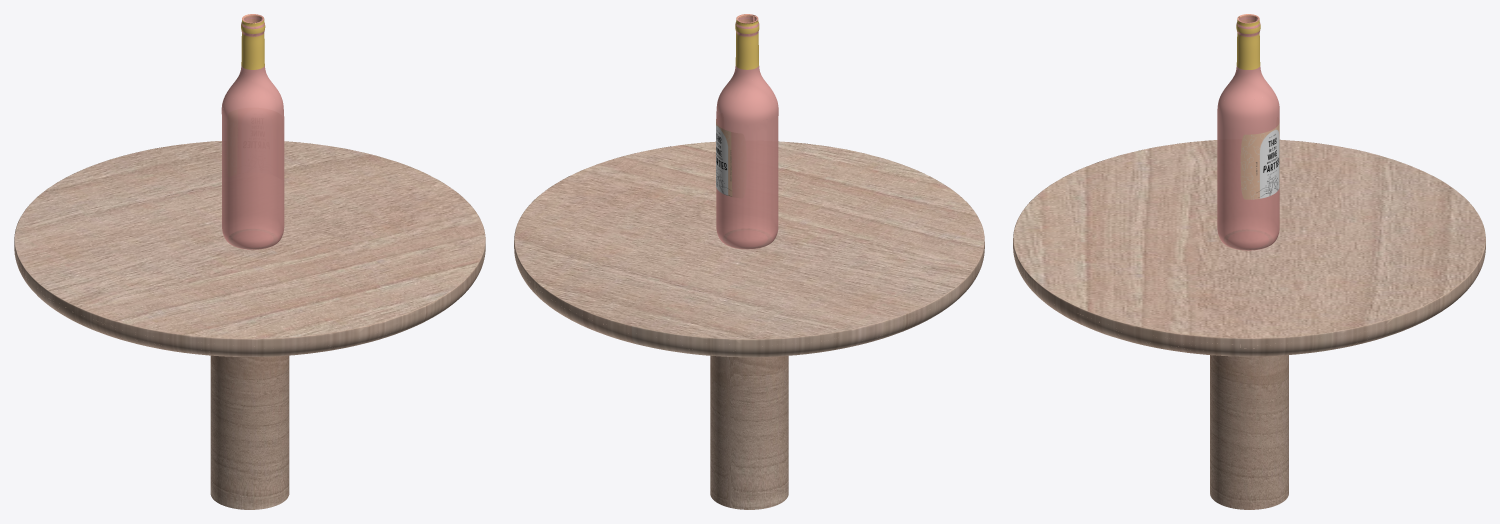
File: rose-table.glb
3 views of the same model, side by side, from view 1: azimuth 30°, elevation 25°; view 2: azimuth 150°, elevation 25°; view 3: azimuth 270°, elevation 25° (orthographic).
Parts seen in each view (by area): view 1: Cylinder.001_3, Cylinder_2, Cylinder.002_5; view 2: Cylinder.001_3, Cylinder_2, Cylinder.002_5; view 3: Cylinder.001_3, Cylinder_2, Cylinder.002_5.
Part boxes in pixels (x1,y1,x2,y2): Cylinder.001_3: (14,141,485,509); Cylinder_2: (221,14,284,249); Cylinder.002_5: (227,110,237,176); Cylinder.001_3: (514,141,984,509); Cylinder_2: (716,14,778,249); Cylinder.002_5: (716,119,745,197); Cylinder.001_3: (1013,139,1485,509); Cylinder_2: (1217,14,1279,250); Cylinder.002_5: (1240,117,1279,199).
Size of the model in its own units: 5.89 by 6.54 by 5.89.
Materials: 4 (2 with a texture image).
